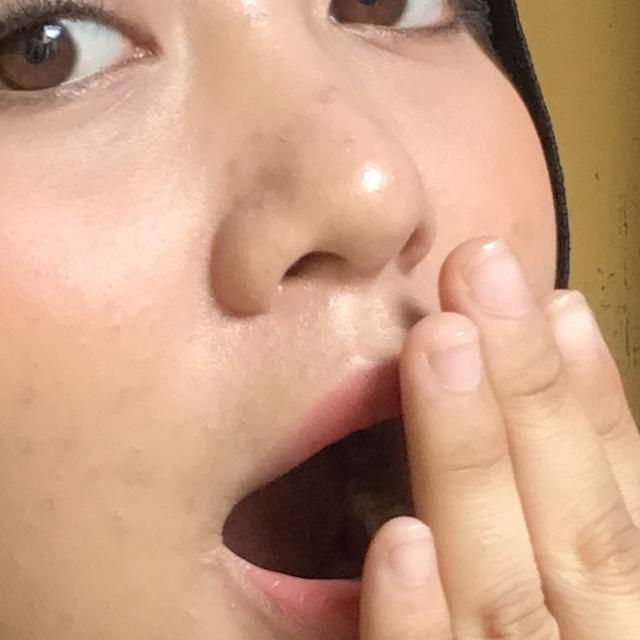ngantuk: (90, 206, 640, 640)
